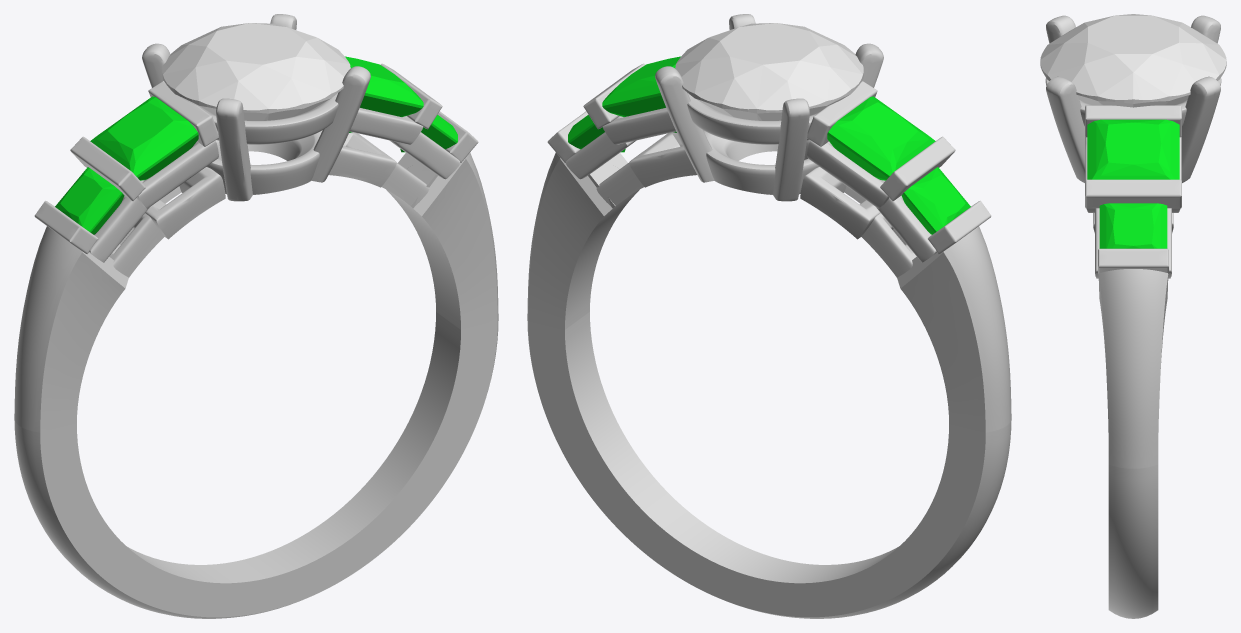
File: Susan_Ryerson_Taper.glb
3 views of the same model, side by side, from view 1: azimuth 30°, elevation 25°; view 2: azimuth 150°, elevation 25°; view 3: azimuth 270°, elevation 25° (orthographic).
Visible parts, largest first — view 1: Susan PT taper matte for 3d model, Susan dia for 3d model, Susan emeralds for 3d model.002, Susan emeralds for 3d model.003, Susan emeralds for 3d model, Susan emeralds for 3d model.001; view 2: Susan PT taper matte for 3d model, Susan dia for 3d model, Susan emeralds for 3d model.002, Susan emeralds for 3d model.003, Susan emeralds for 3d model, Susan emeralds for 3d model.001; view 3: Susan PT taper matte for 3d model, Susan dia for 3d model, Susan emeralds for 3d model, Susan emeralds for 3d model.001.
Boxes of the visible parts, x1=… form: Susan PT taper matte for 3d model: x1=14, y1=14, x2=498, y2=618; Susan dia for 3d model: x1=162, y1=23, x2=350, y2=120; Susan emeralds for 3d model.002: x1=90, y1=96, x2=198, y2=180; Susan emeralds for 3d model.003: x1=55, y1=167, x2=124, y2=234; Susan emeralds for 3d model: x1=345, y1=56, x2=423, y2=132; Susan emeralds for 3d model.001: x1=400, y1=115, x2=457, y2=152; Susan PT taper matte for 3d model: x1=527, y1=14, x2=1011, y2=618; Susan dia for 3d model: x1=675, y1=23, x2=863, y2=120; Susan emeralds for 3d model.002: x1=827, y1=96, x2=935, y2=180; Susan emeralds for 3d model.003: x1=901, y1=167, x2=970, y2=234; Susan emeralds for 3d model: x1=602, y1=56, x2=680, y2=132; Susan emeralds for 3d model.001: x1=568, y1=115, x2=625, y2=152; Susan PT taper matte for 3d model: x1=1045, y1=15, x2=1221, y2=618; Susan dia for 3d model: x1=1040, y1=14, x2=1226, y2=107; Susan emeralds for 3d model: x1=1087, y1=119, x2=1179, y2=179; Susan emeralds for 3d model.001: x1=1099, y1=203, x2=1167, y2=248.
Bounding box in the file's own units: 21.94 × 24.97 × 7.55.
